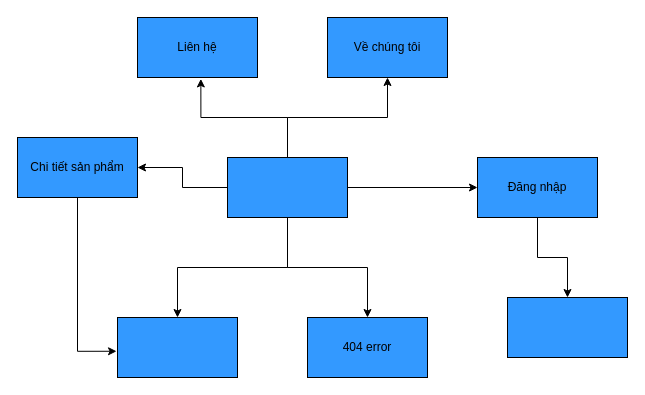
The diagram is 645 pixels wide and 395 high, and some of its shapes have lost their labels. Each missing label, with the centre of its shape:
"Giỏ hàng" belongs at (177,347).
"Trang chủ" belongs at (287,187).
"Đăng ký" belongs at (567,327).
